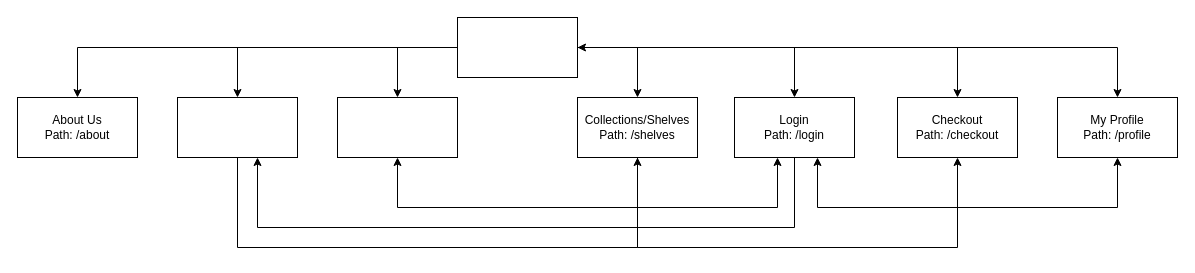
Image size: 1195x273. Some labels were removed from this diagram. The shapes that lost their labels are listed below. From the top down, each one's centre as x and y in pixels, then its label:
point 517,47: Bookstore Home Path: /
point 237,127: Books Path: /books
point 397,127: Membership Path: /membership
